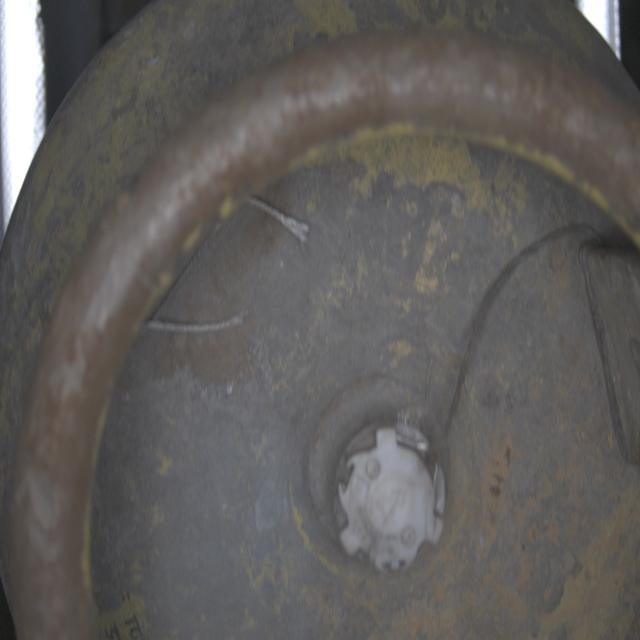Cap: (334, 421, 450, 573)
